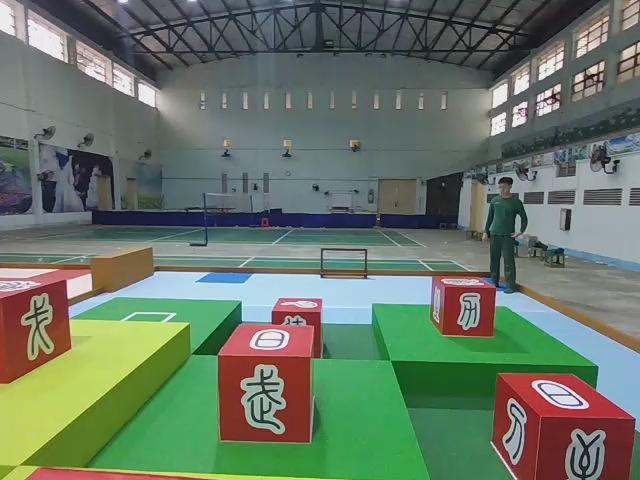R2 Fake: (490, 368, 638, 480), (214, 321, 317, 446), (0, 273, 74, 386), (429, 272, 498, 339)
